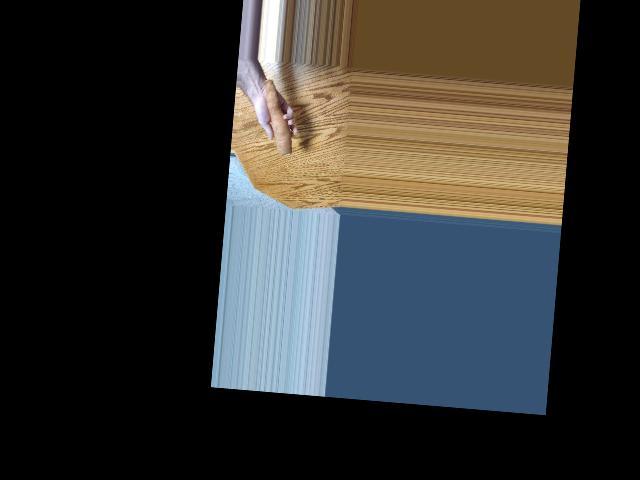sweet_potato: (256, 80, 299, 155)
